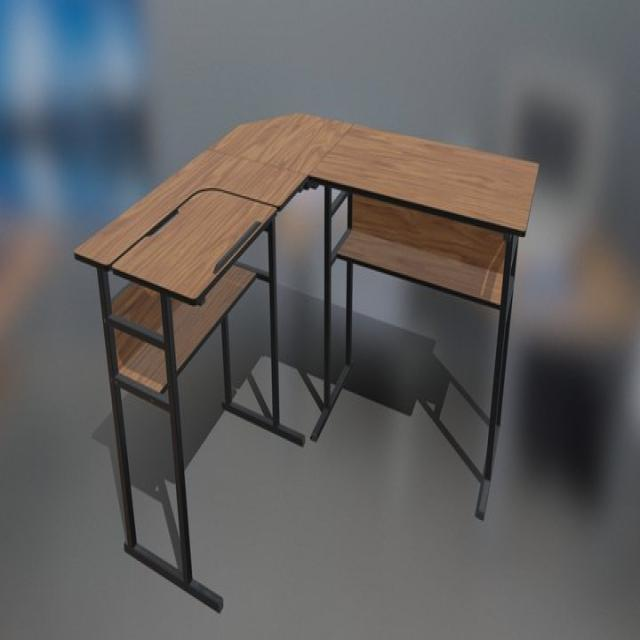table: (76, 110, 539, 616)
